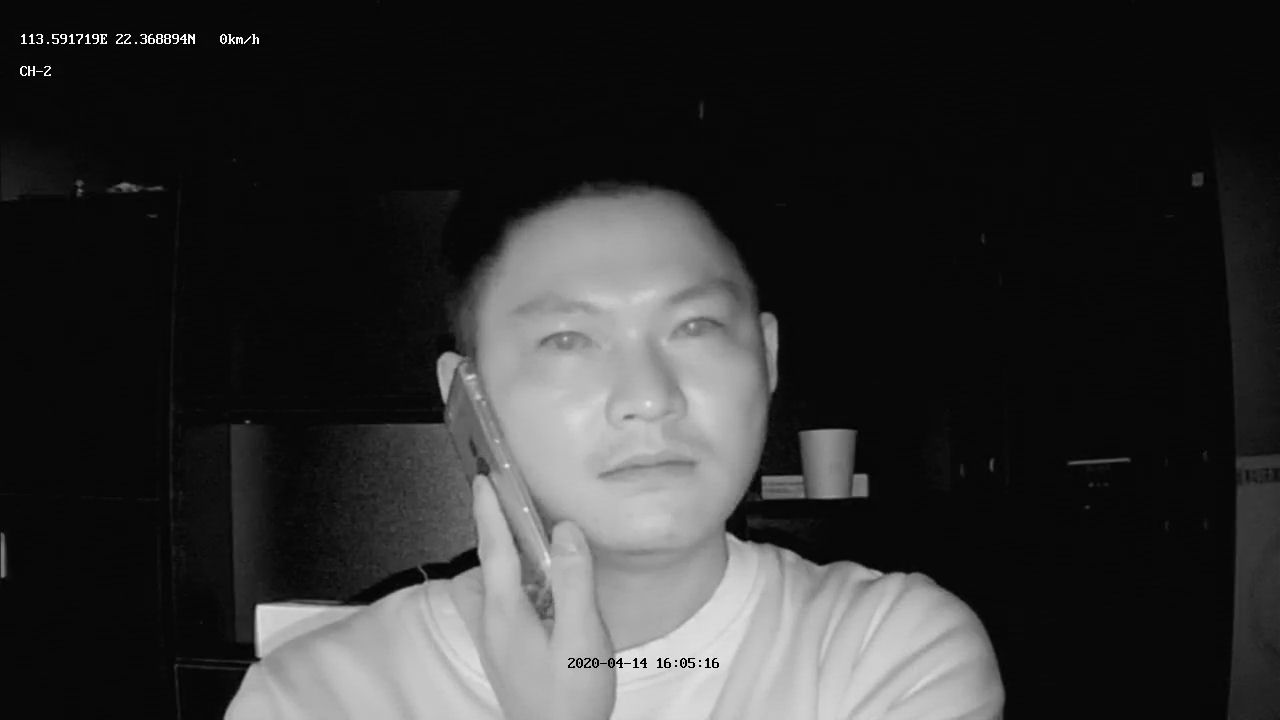call: (470, 221, 794, 545)
